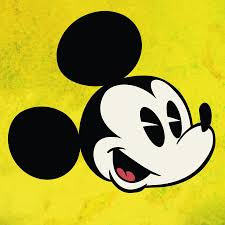mickey: (7, 11, 217, 194)
